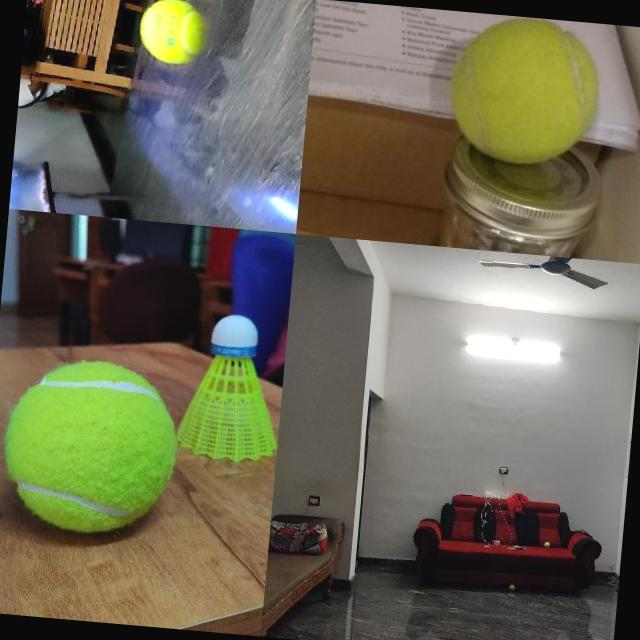Tennis Ball: (0, 354, 181, 537), (444, 11, 605, 170), (136, 0, 210, 67), (543, 540, 550, 547), (508, 583, 515, 590)
